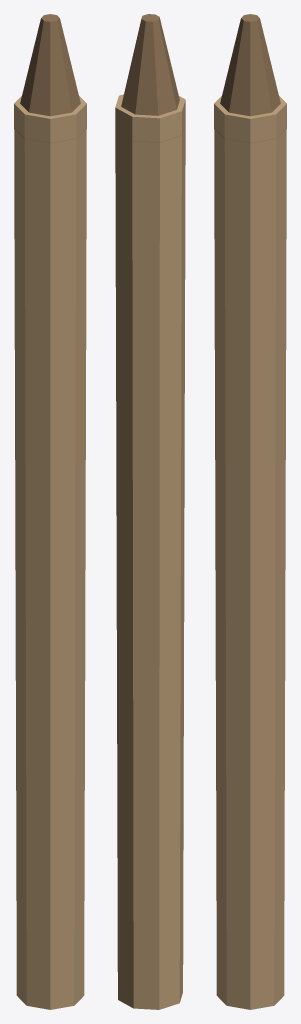
Rendered from grip_digging_stick.glb.
The picture shows the model from 3 angles, left to right: view 1: azimuth 90°, elevation 25°; view 2: azimuth 150°, elevation 25°; view 3: azimuth 270°, elevation 25°; orthographic projection.
Parts seen in each view (by area): view 1: s2_grip_digging_stick; view 2: s2_grip_digging_stick; view 3: s2_grip_digging_stick.
Boxes of the visible parts, bbox=[...] form: s2_grip_digging_stick: bbox=[14, 14, 86, 1009]; s2_grip_digging_stick: bbox=[115, 14, 185, 1009]; s2_grip_digging_stick: bbox=[214, 14, 286, 1009].
Size of the model in its own units: 0.054 by 0.8 by 0.054.
